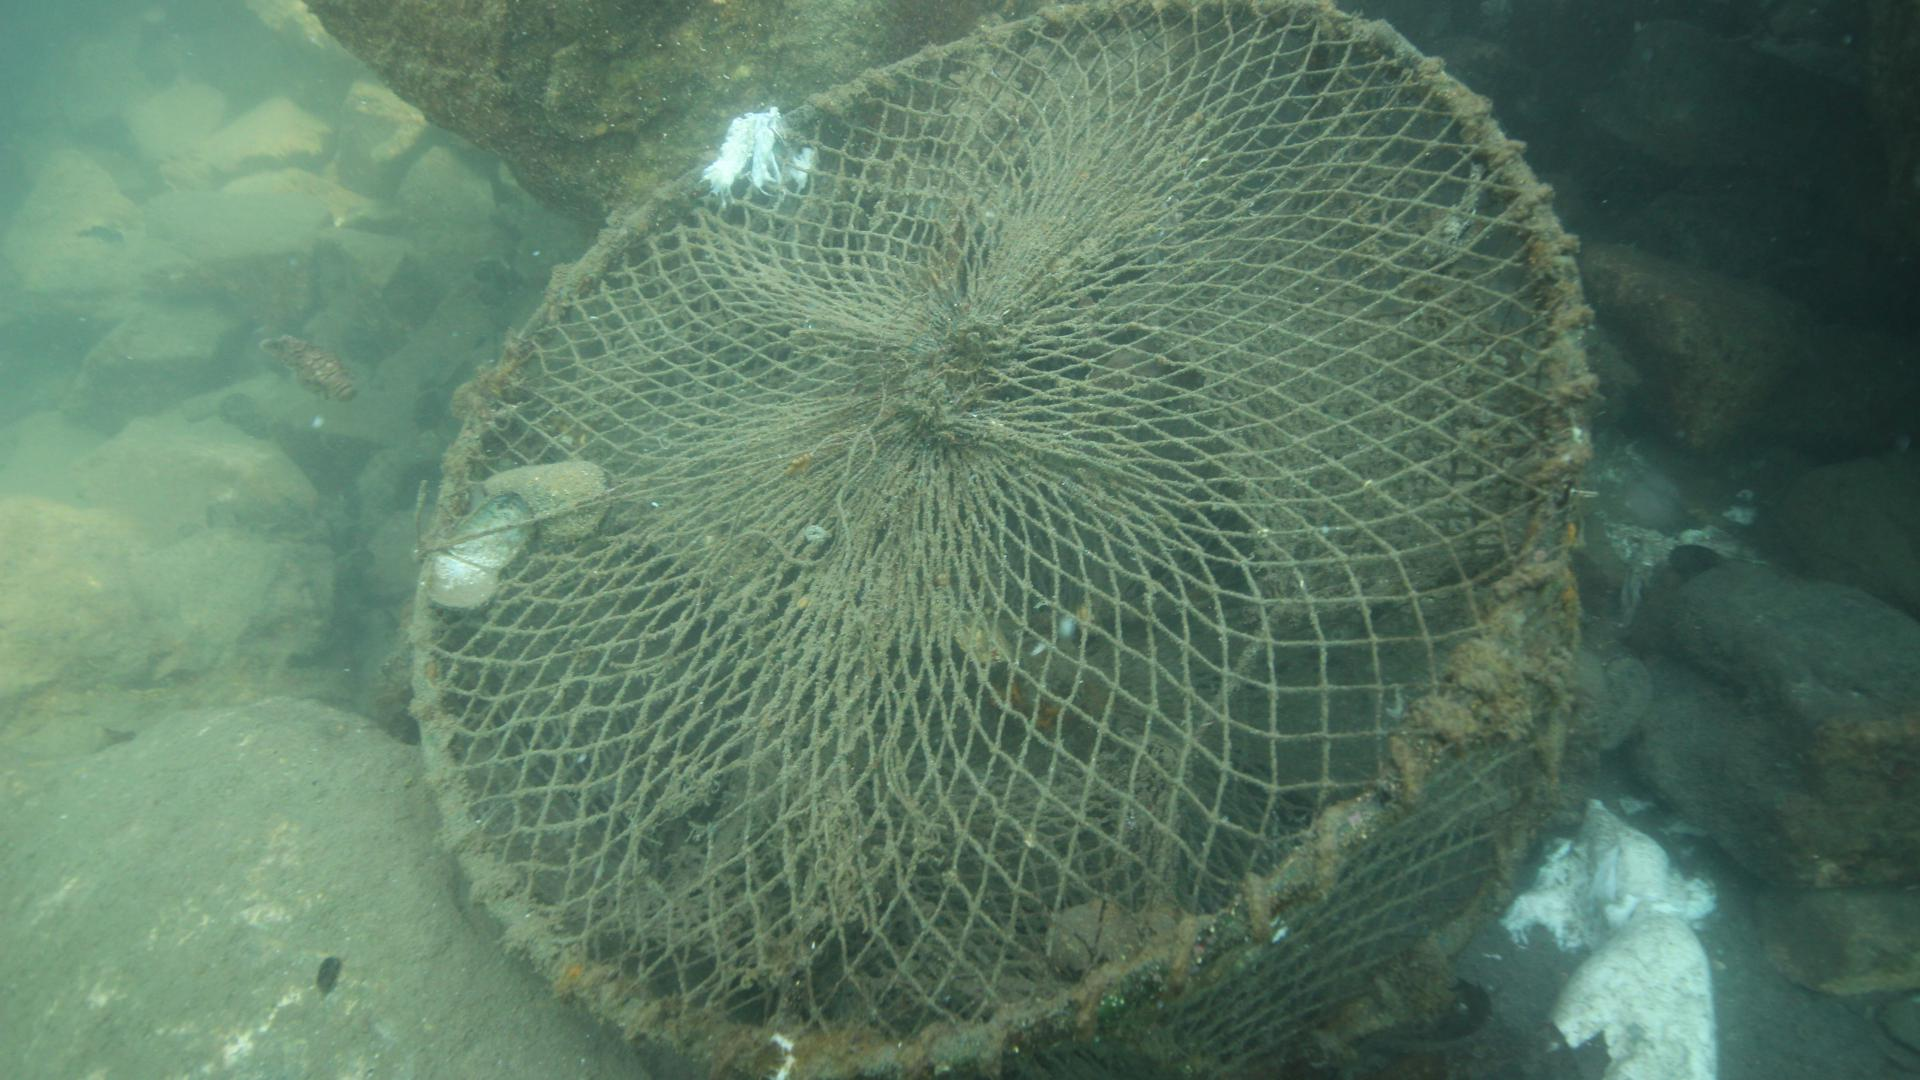circular fish trap: (406, 0, 1600, 1080)
